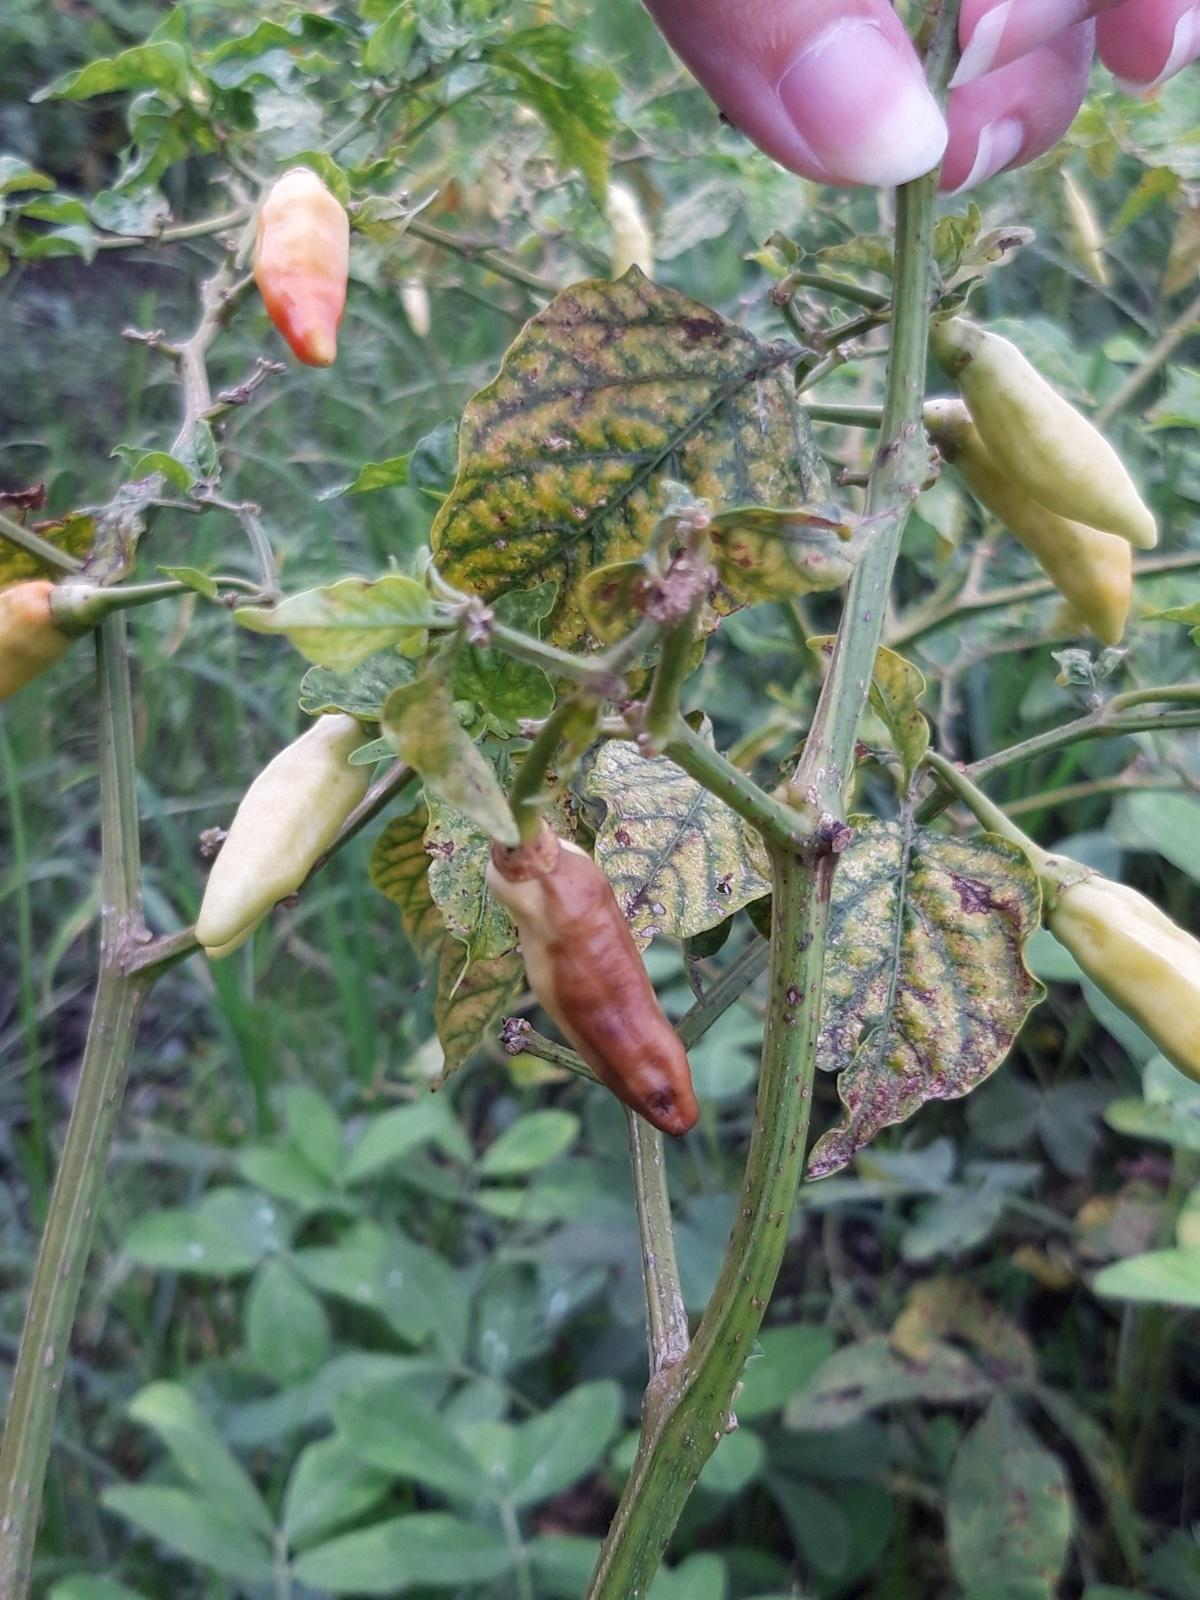cabai_normal: (930, 315, 1158, 552), (926, 398, 1132, 651), (194, 711, 378, 945), (252, 166, 352, 367)
lalat_buah: (487, 796, 700, 1140)
